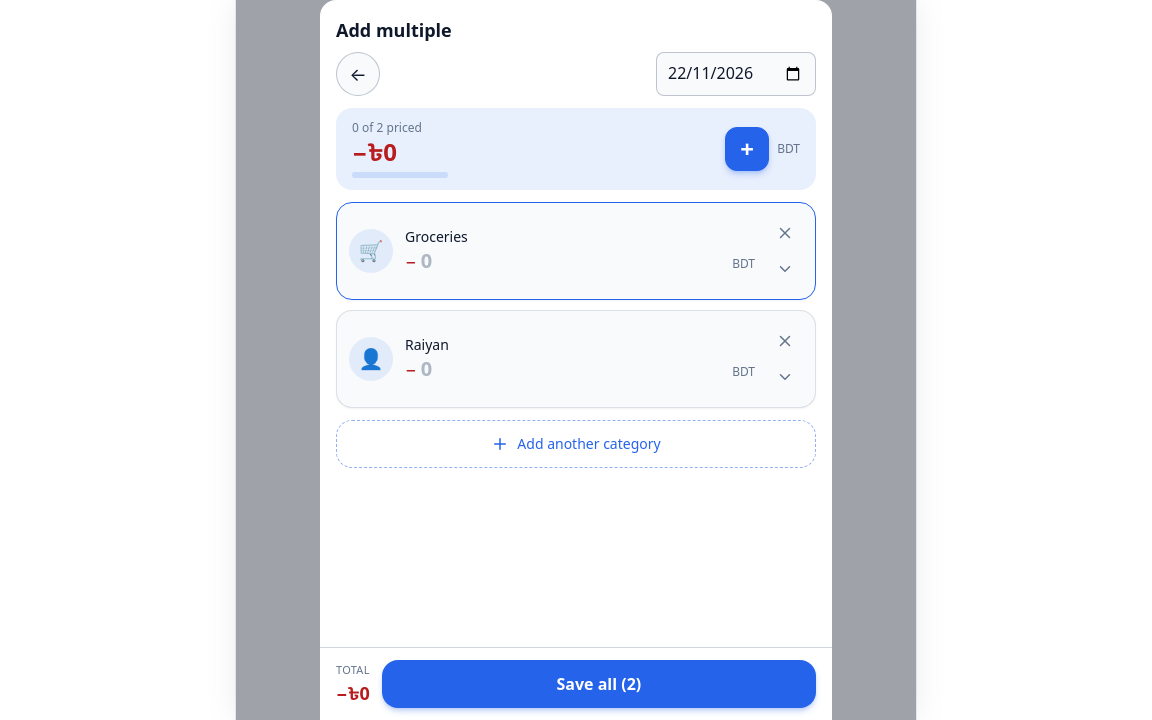
BasketSheet › + button appends a plus so several amounts can be added in one row
In the field named "Amount for Groceries": (574, 261) [421, 247, 728, 275], type "40"
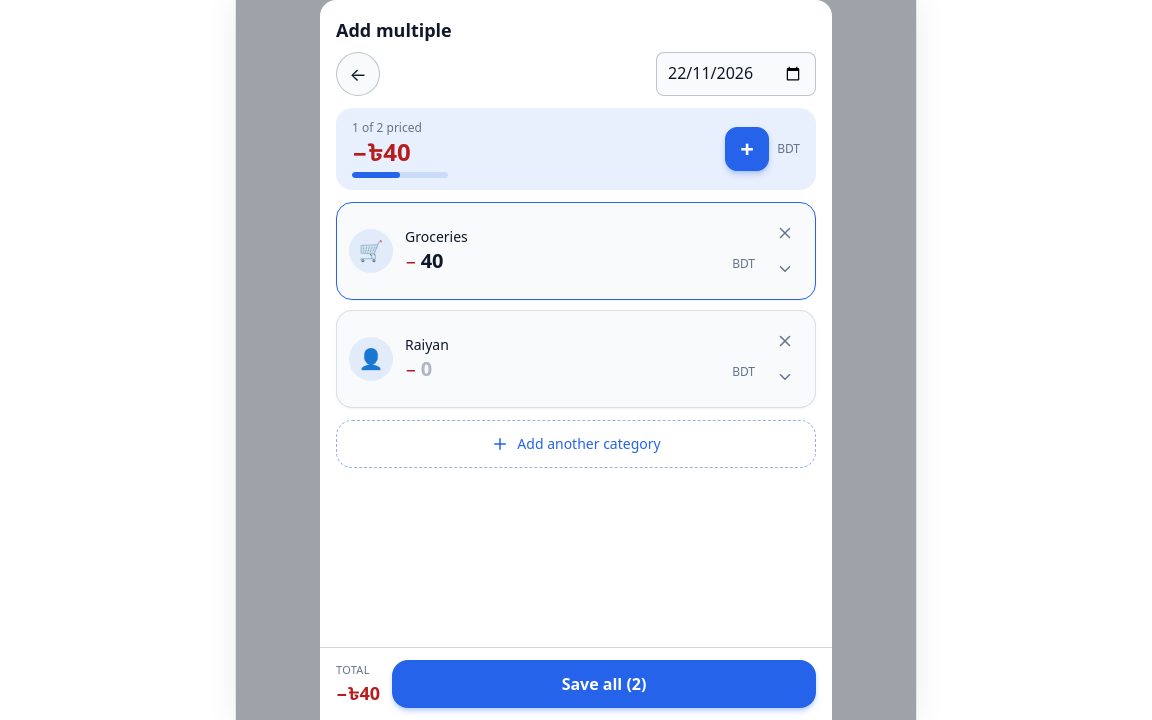
Click the button named "Add another amount": (747, 149) [725, 127, 769, 171]
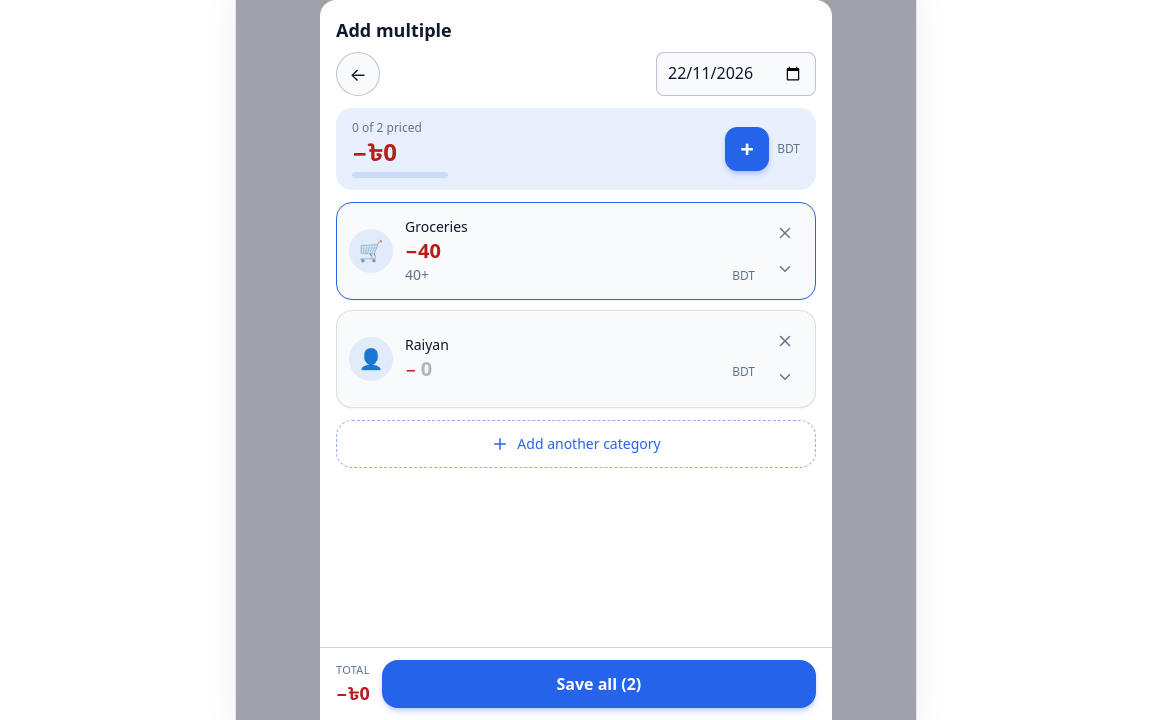
In the field named "Amount for Groceries": (567, 275) [405, 265, 728, 285], type "110"
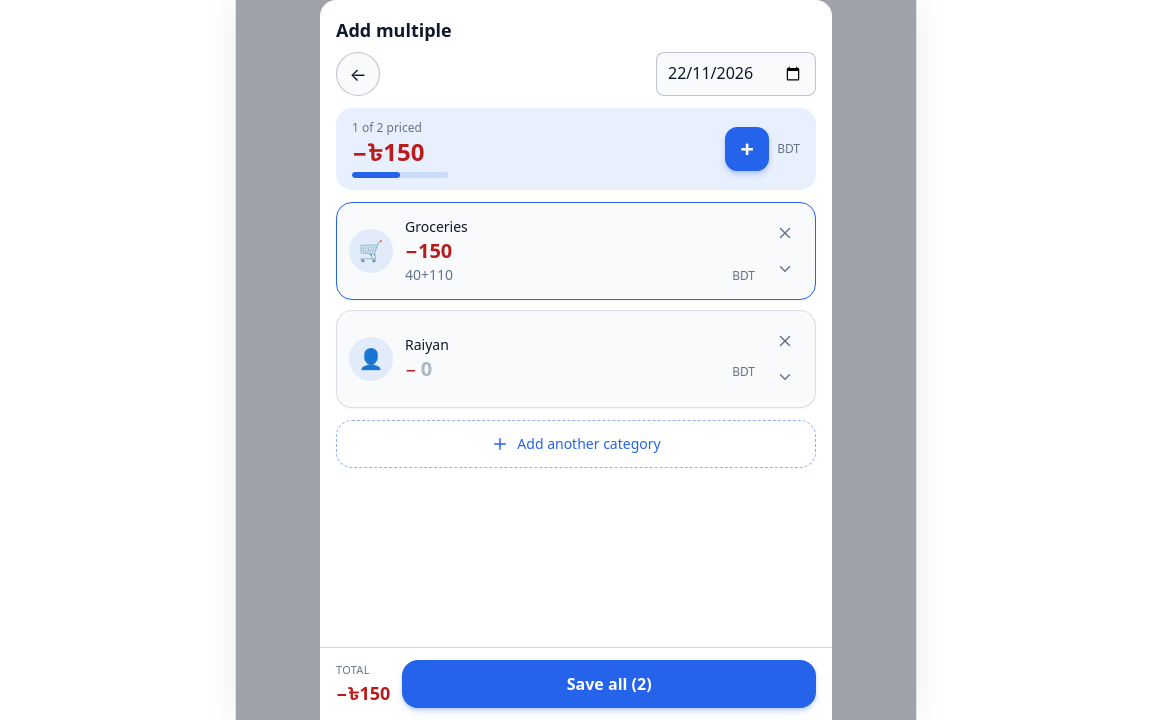
expect the field named "Amount for Groceries" holds "40+110": met, box [405, 265, 728, 285]
